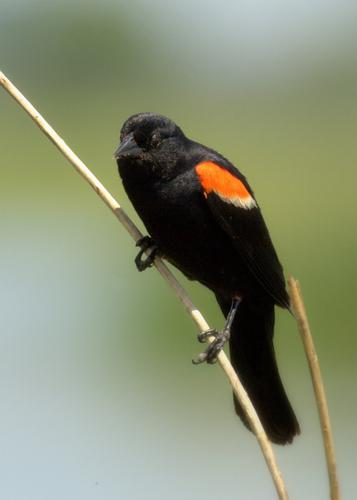010.Red_winged_Blackbird: (115, 113, 304, 443)
